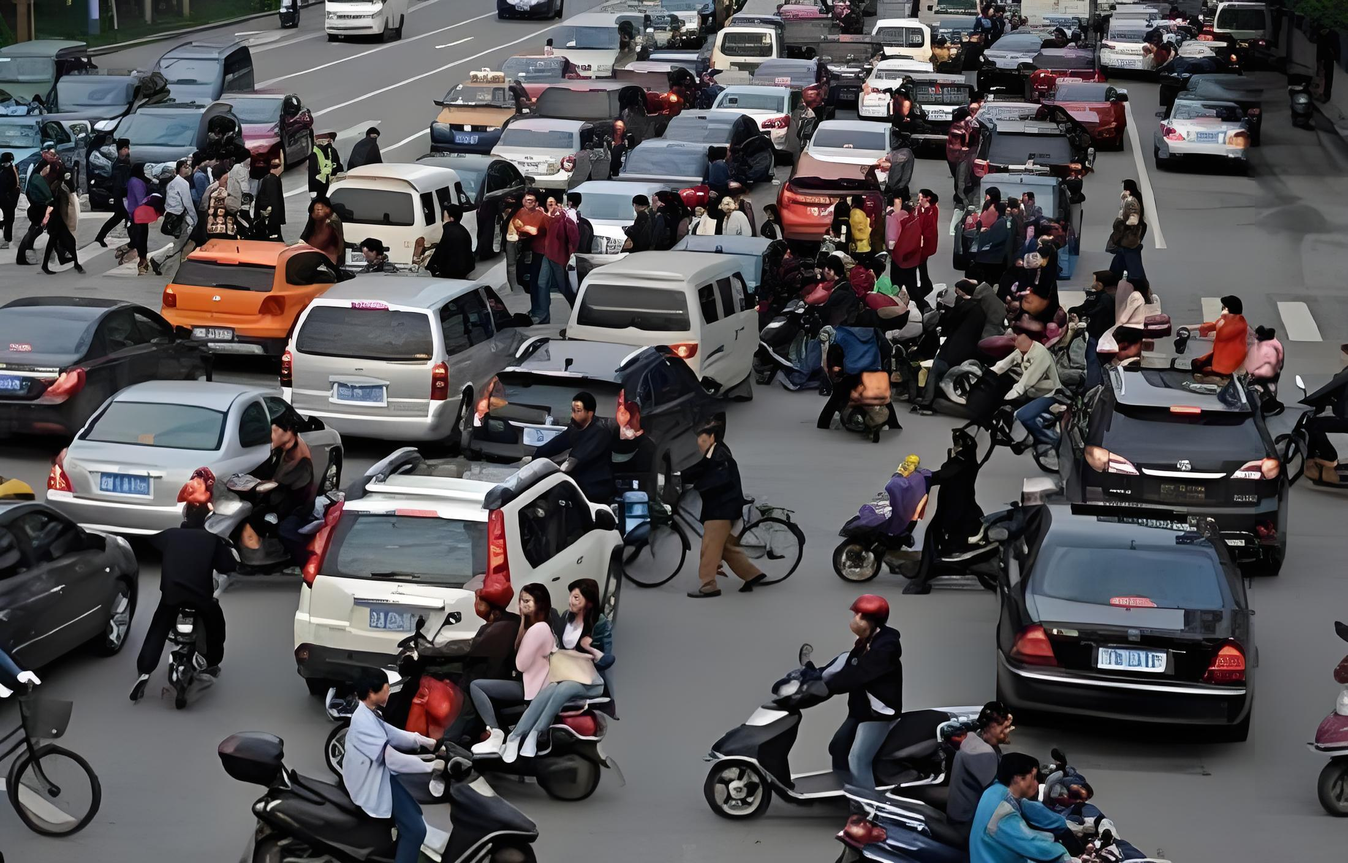car: (1006, 510, 1265, 754), (308, 485, 555, 692), (47, 400, 309, 550), (287, 278, 483, 465), (25, 346, 238, 510), (147, 214, 365, 363), (6, 296, 199, 451)
person: (205, 93, 312, 254)
